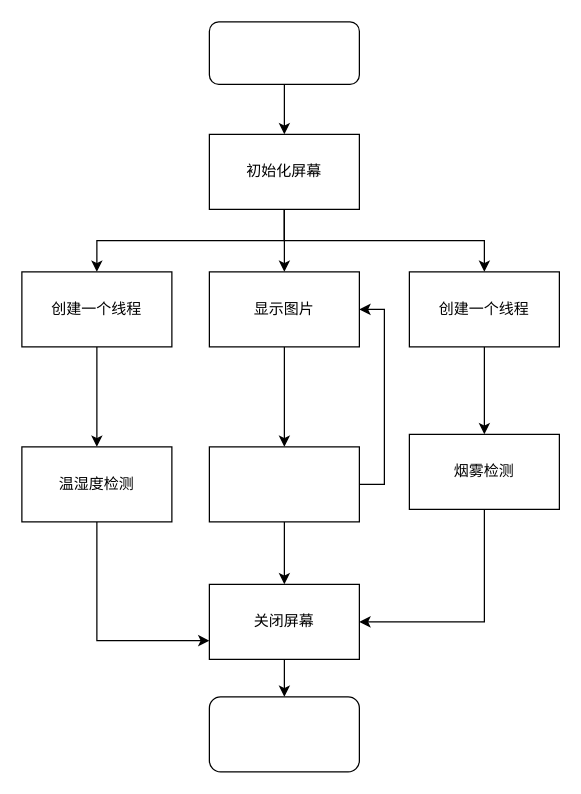
This 581x794 diagram has some shape labels left out. The shapes that lost their labels are listed below. From the top down, each one's box as (x1, y1, x2, y2) in pixels, then its label:
(208, 21, 359, 84): 开始
(208, 446, 359, 522): 接收手指输入信号
(208, 696, 359, 772): 结束
